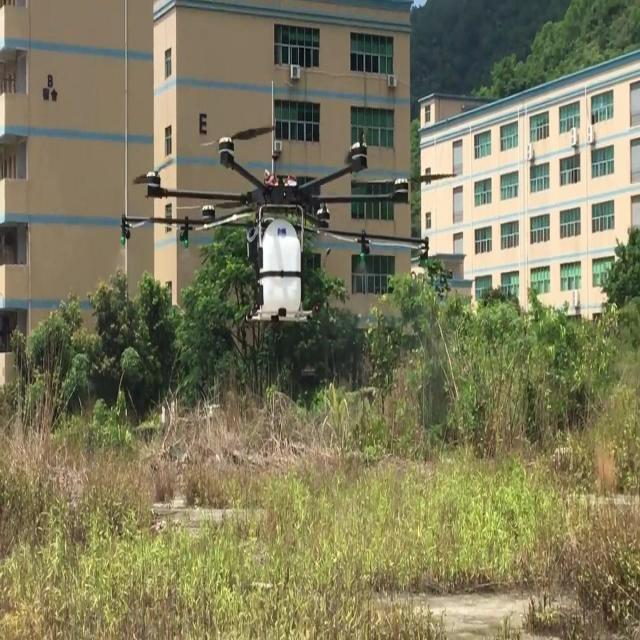UAV: (122, 123, 430, 325)
